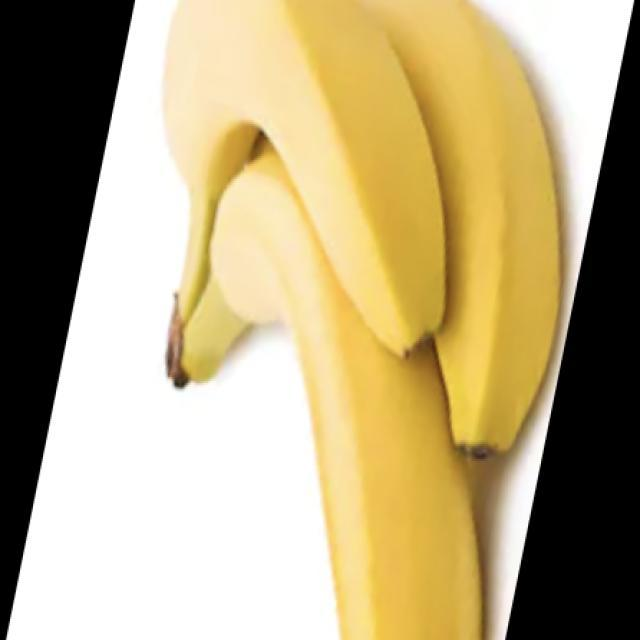Banana: (160, 0, 562, 639)
